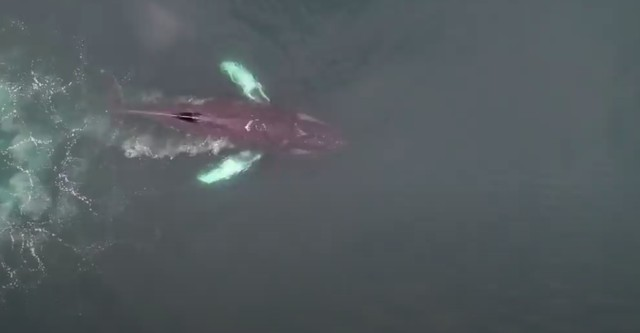whale: (91, 55, 362, 189)
